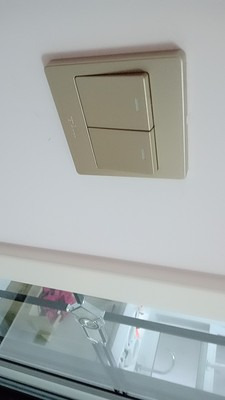switch: (71, 68, 162, 134), (85, 125, 167, 172)
